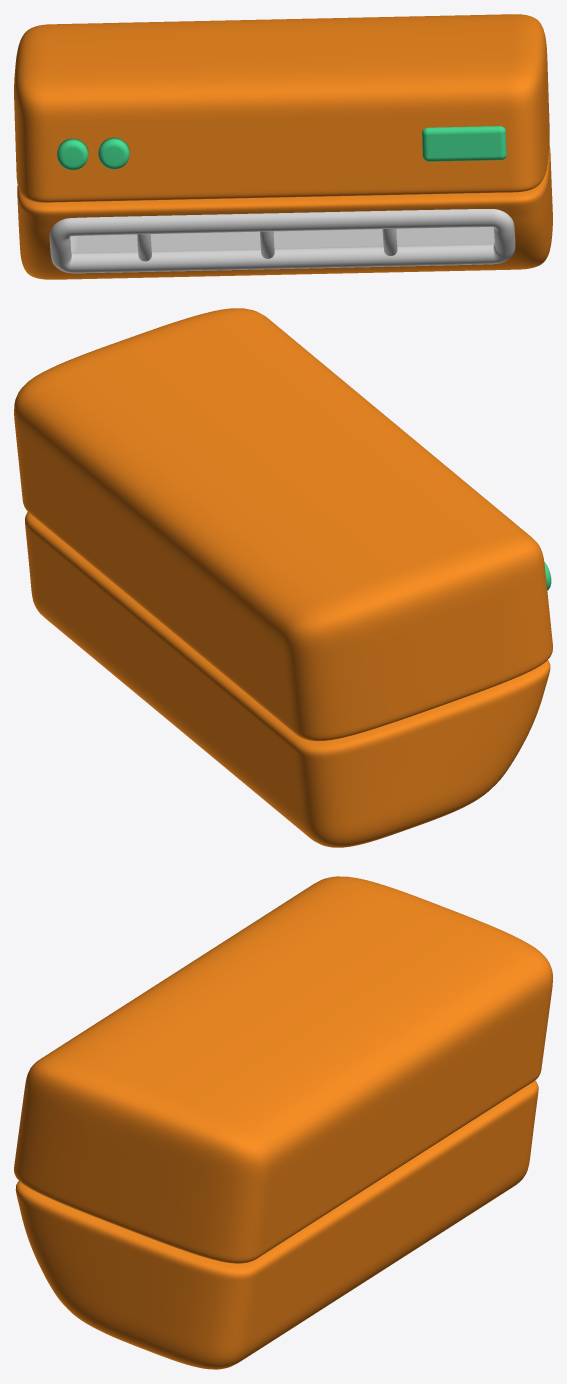
The model's file is air-conditioner-3d-icon-990110003510.glb.
The picture shows the model from 3 angles, top to bottom: view 1: azimuth 30°, elevation 25°; view 2: azimuth 150°, elevation 25°; view 3: azimuth 270°, elevation 25°; orthographic projection. The views are drawn at different scales.
Parts seen in each view (by area): view 1: Body, Air Hole, Button; view 2: Body; view 3: Body.
Part boxes in pixels (<box>): Body: <box>14,14,552,279</box>; Air Hole: <box>49,209,515,273</box>; Button: <box>57,126,506,170</box>; Body: <box>14,308,552,847</box>; Body: <box>14,876,552,1369</box>.
Bounding box in the file's own units: 3.26 × 1.57 × 2.75.
